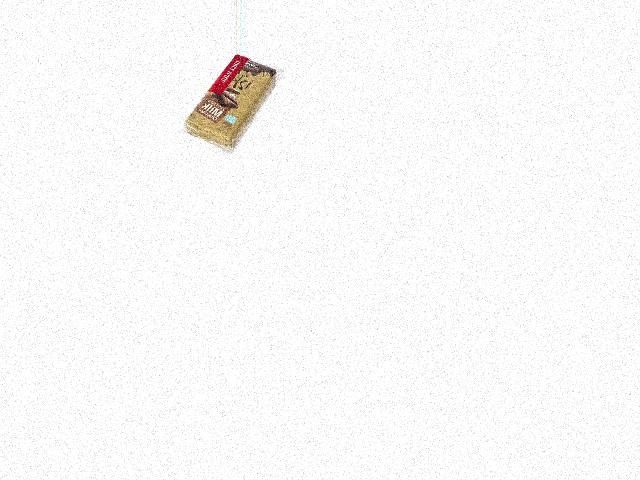chocolate: (172, 56, 278, 151)
